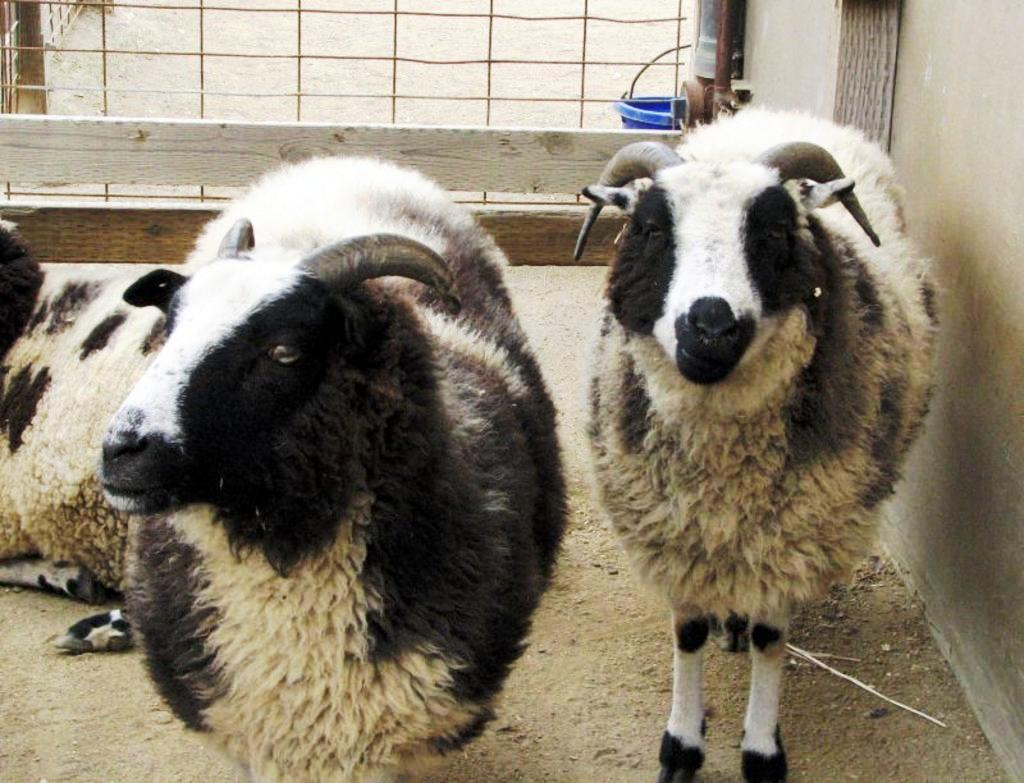Sheep: (98, 156, 574, 782), (572, 103, 947, 782), (0, 225, 184, 655)
